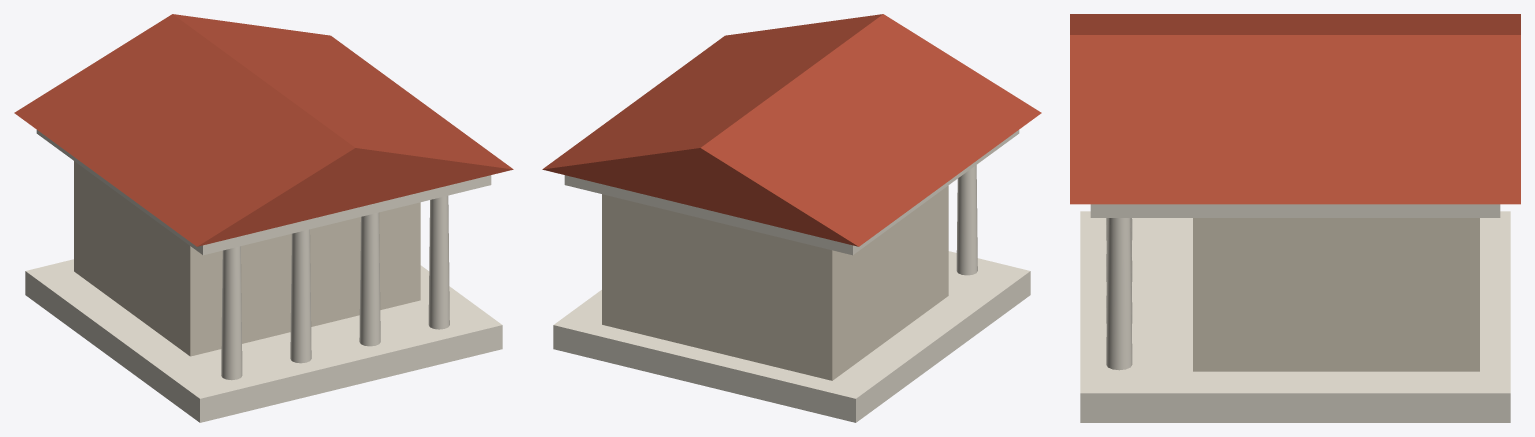
The model's file is mint.glb.
3 renders of one model, left to right at view 1: azimuth 30°, elevation 25°; view 2: azimuth 150°, elevation 25°; view 3: azimuth 270°, elevation 25°, orthographic. The views are drawn at different scales.
Visible parts, largest first — view 1: Mint; view 2: Mint; view 3: Mint.
Part boxes in pixels (box(x1,y1,x2,y2)): Mint: box(14, 14, 513, 422); Mint: box(542, 14, 1041, 422); Mint: box(1070, 14, 1520, 422).
Size of the model in its own units: 11 by 8 by 11.
